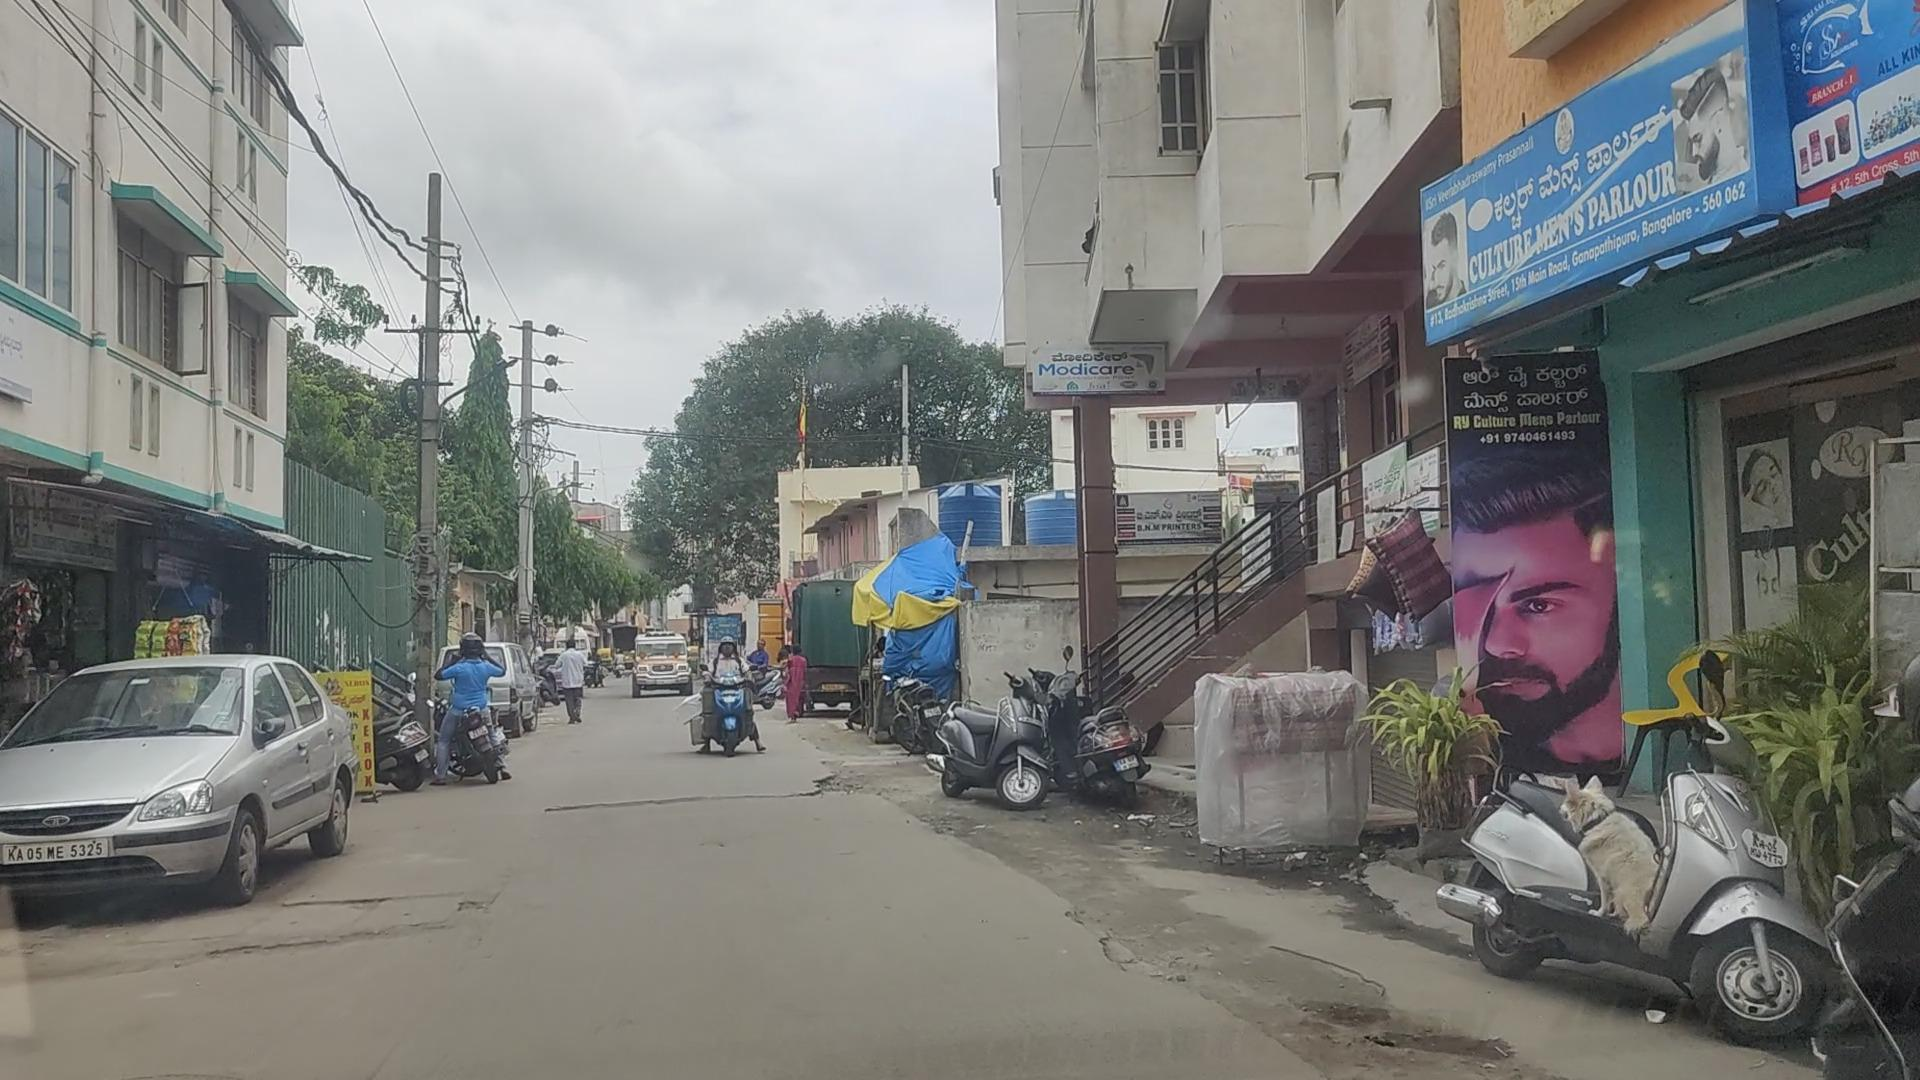LMV: (4, 666, 372, 902), (435, 629, 496, 795), (713, 640, 762, 762)
RoadDamages: (1282, 1001, 1559, 1079), (257, 898, 513, 976), (571, 775, 907, 827), (1138, 926, 1253, 1017), (953, 819, 1034, 872)
